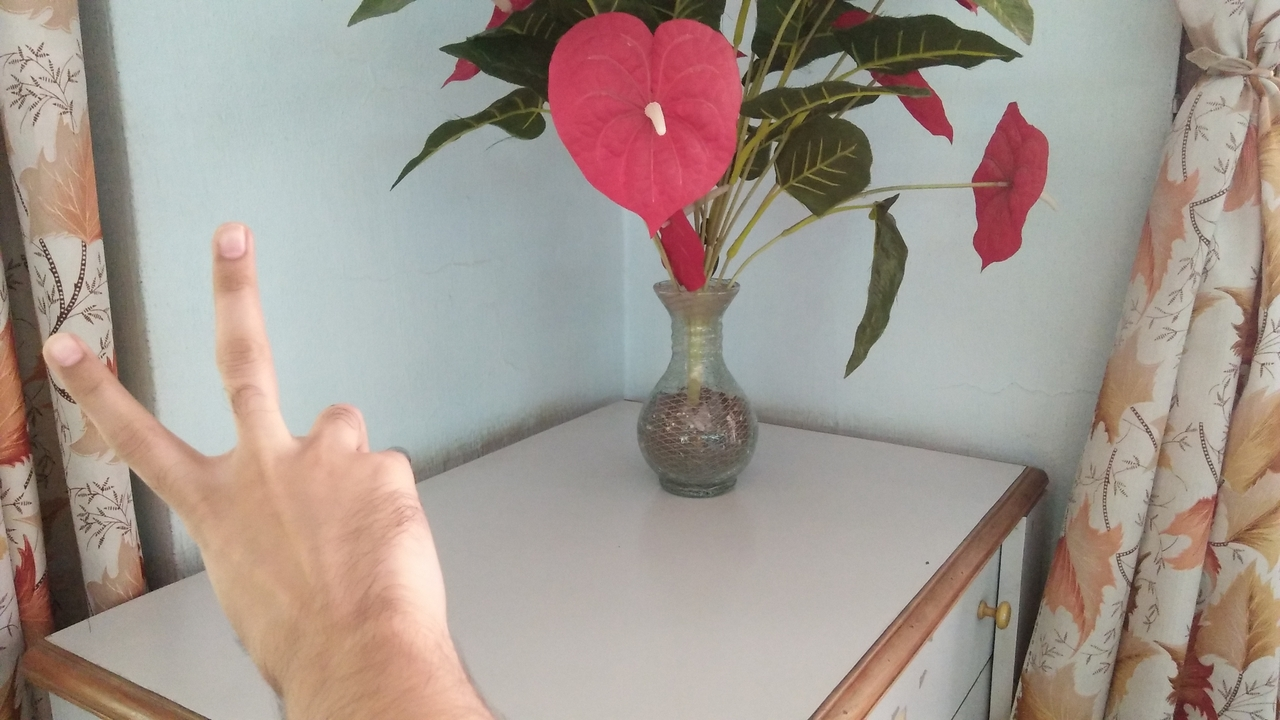fingertip: (32, 324, 96, 380), (198, 212, 258, 270)
